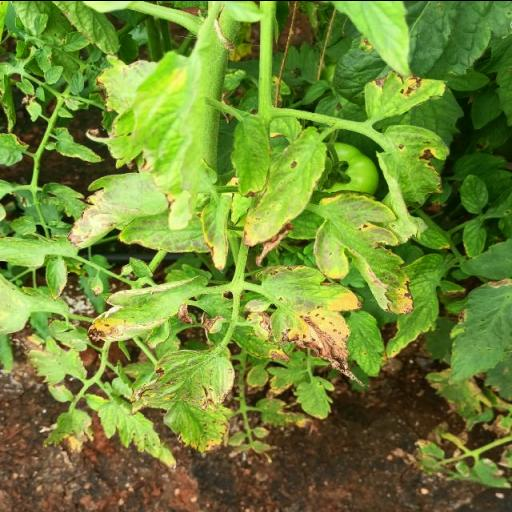Early Blight: (258, 258, 374, 390), (314, 192, 418, 314), (240, 124, 328, 246), (84, 270, 196, 346), (374, 122, 452, 218), (137, 345, 236, 411), (363, 68, 449, 116)
